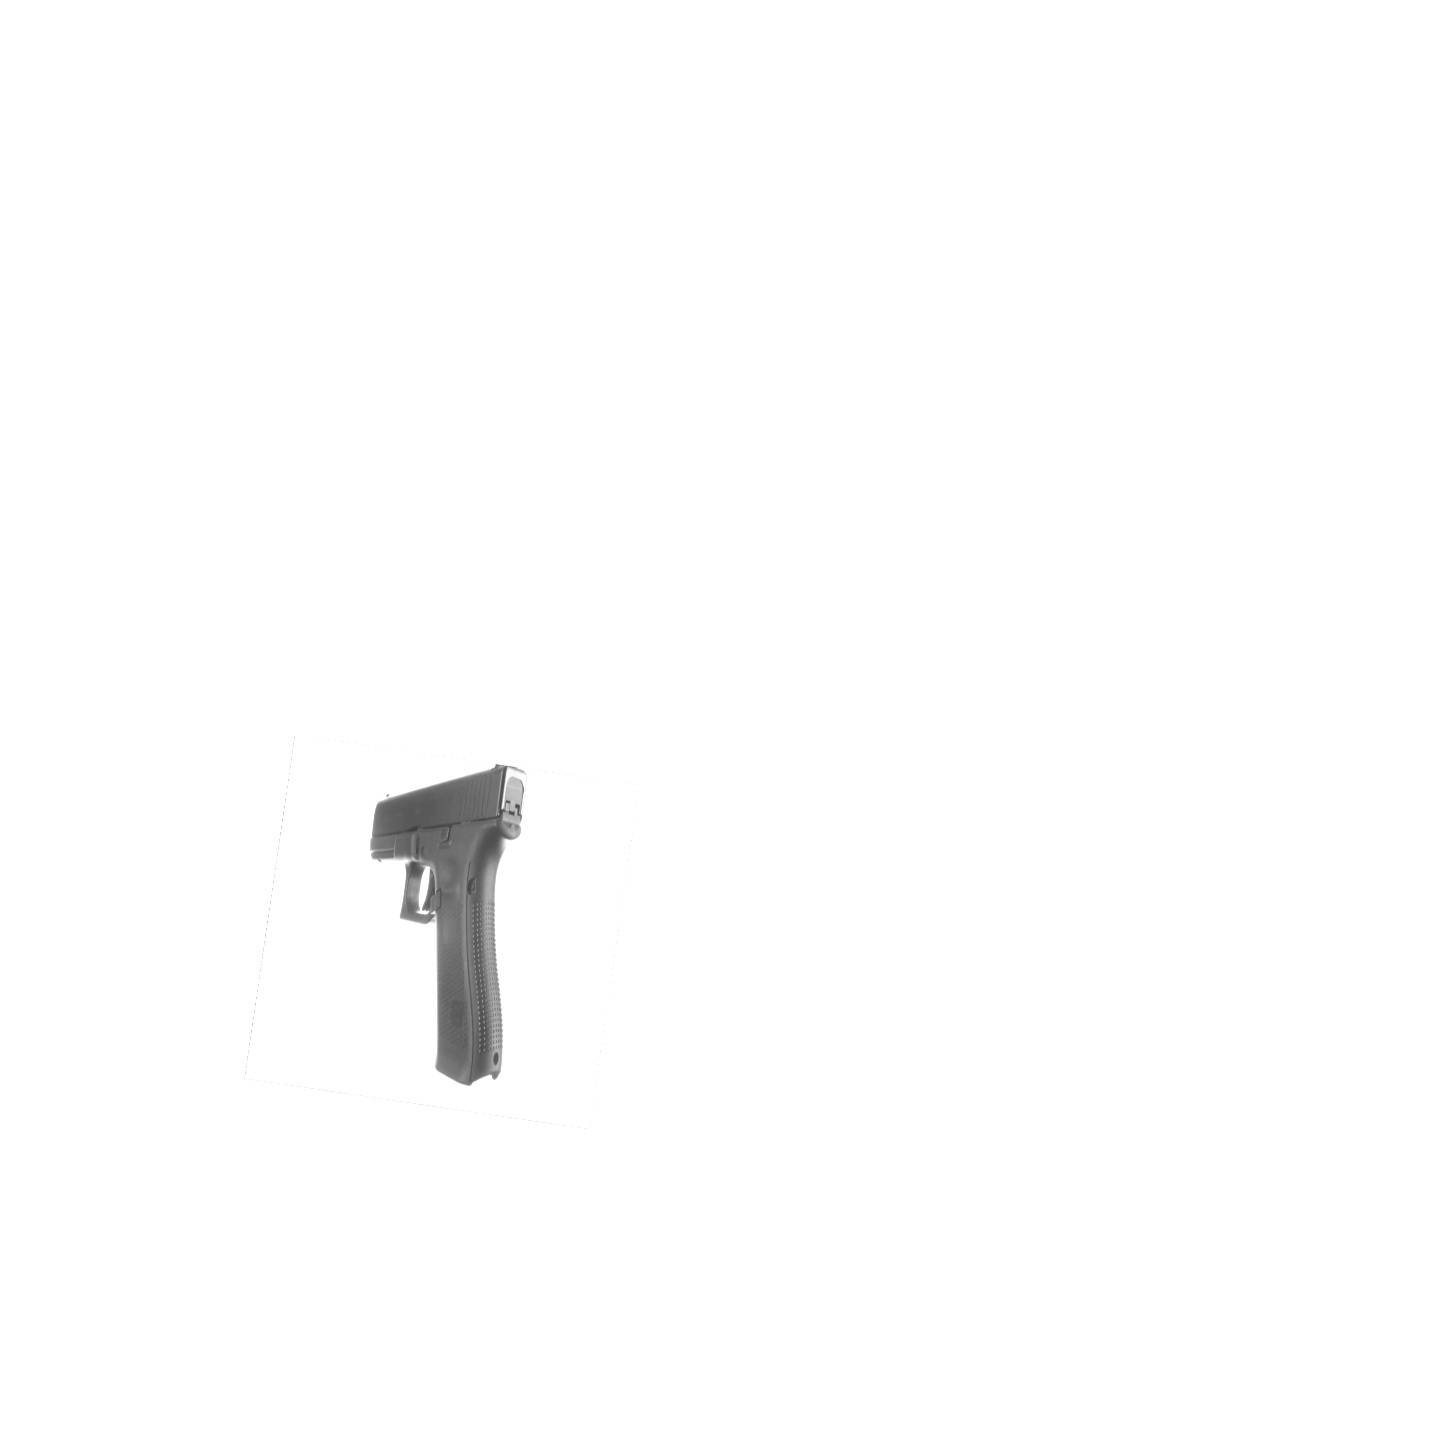gun: (361, 759, 536, 1092)
